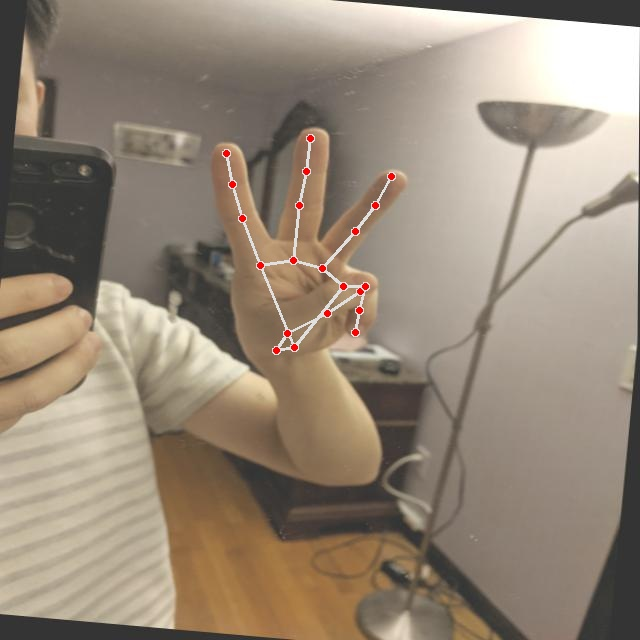W: (185, 114, 418, 376)
